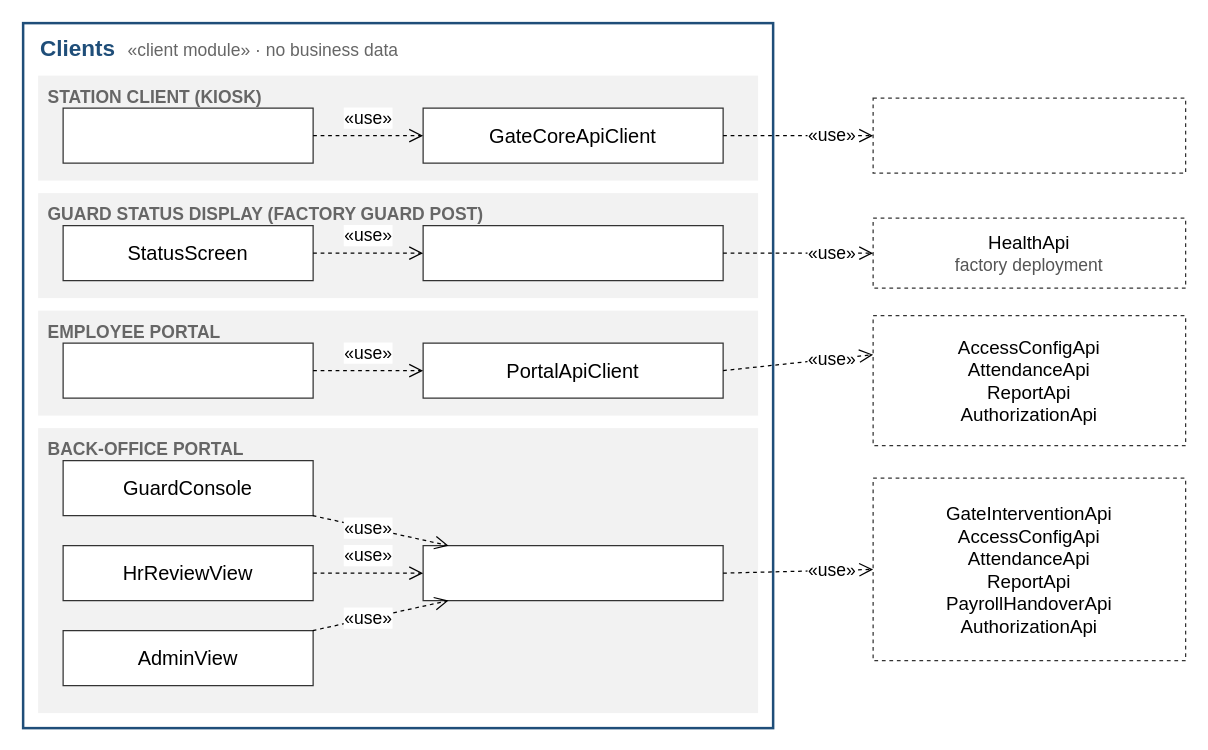
The diagram is 1208 pixels wide and 750 high, and some of its shapes have lost their labels. The box of each missing label's shape, as (x1, y1, x2, y2) in pixels:
BackOfficeApiClient: (422, 544, 723, 601)
GateCoreApi HealthApi: (872, 97, 1186, 173)
HealthApiClient: (422, 224, 723, 281)
QrScreen: (62, 342, 313, 398)
ScanScreen: (62, 107, 313, 163)
